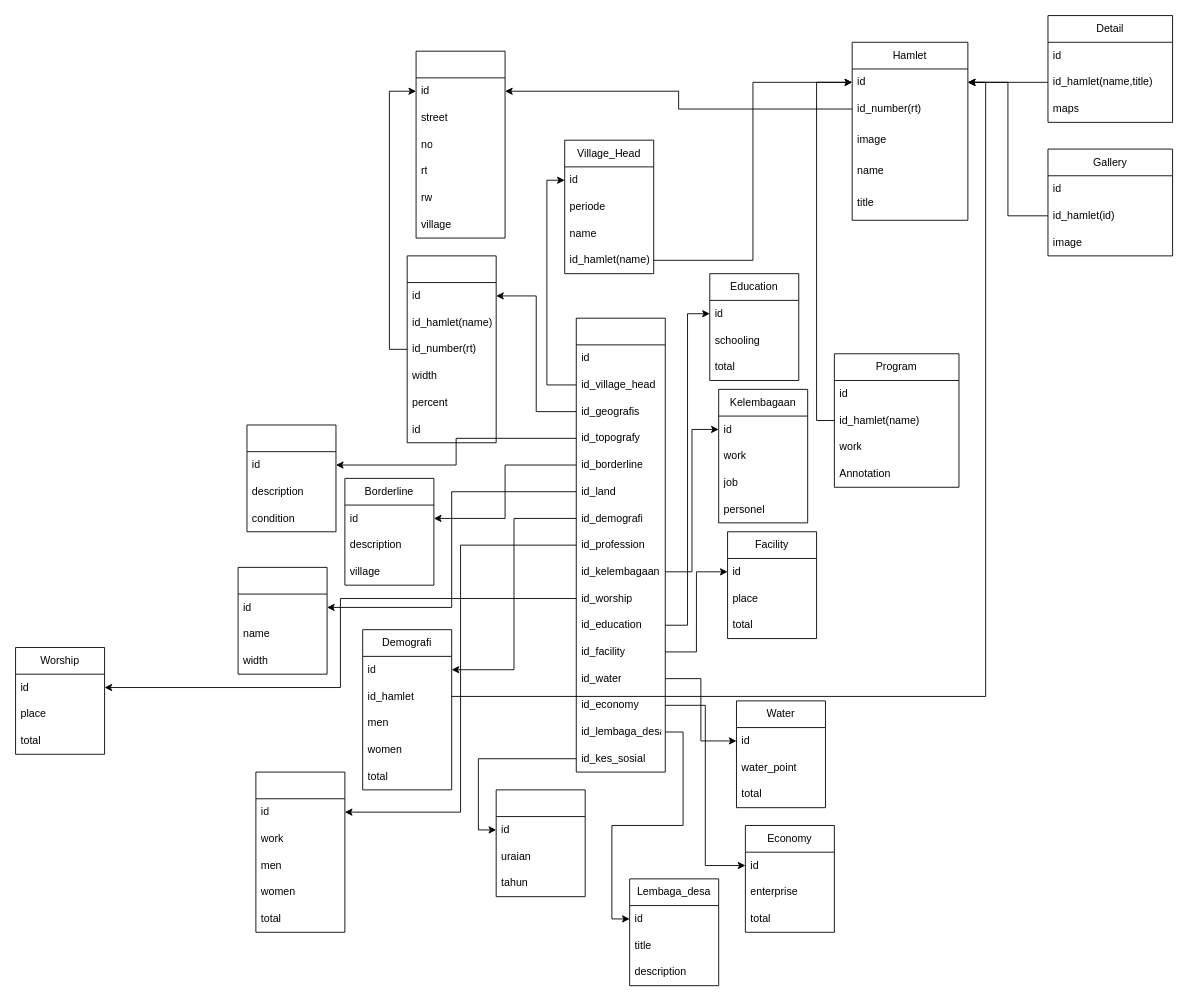
Image size: 1188x1001. Some labels were removed from this diagram. The shapes that lost their labels are listed below. From the top down, each one's box as (x1, y1, x2, y2) in pixels, then its label:
(415, 50, 505, 238): Number
(406, 255, 496, 443): Geografis
(246, 424, 336, 532): Monografi
(575, 317, 665, 772): Profil
(237, 566, 327, 674): Land
(255, 771, 345, 932): Profession
(495, 789, 585, 897): Kes_sosial
